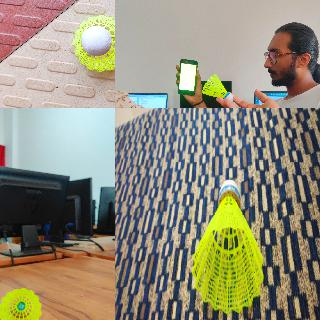shuttlecock: (190, 180, 264, 312), (72, 13, 114, 71), (0, 288, 43, 319), (201, 74, 233, 100)
